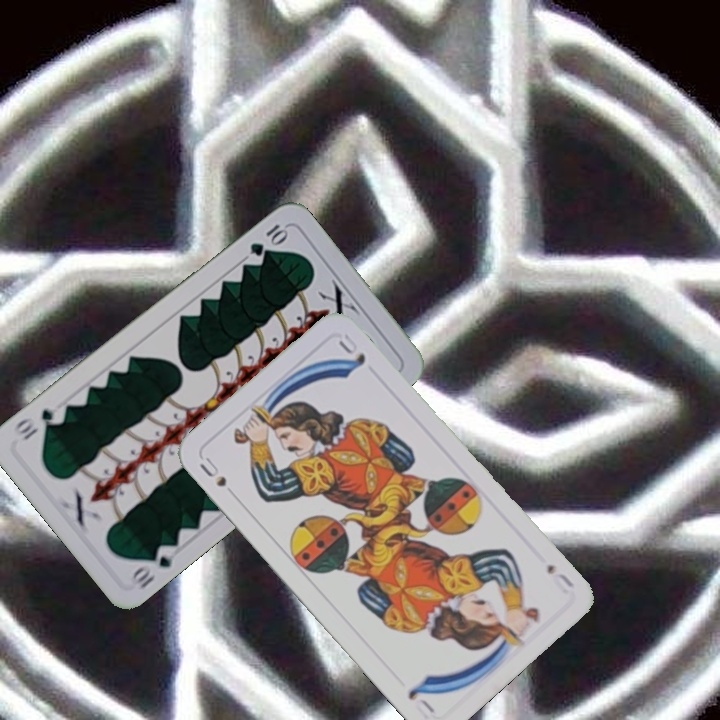G10: (126, 540, 180, 592), (245, 220, 291, 259)
SU: (542, 559, 576, 597), (195, 453, 229, 490)
